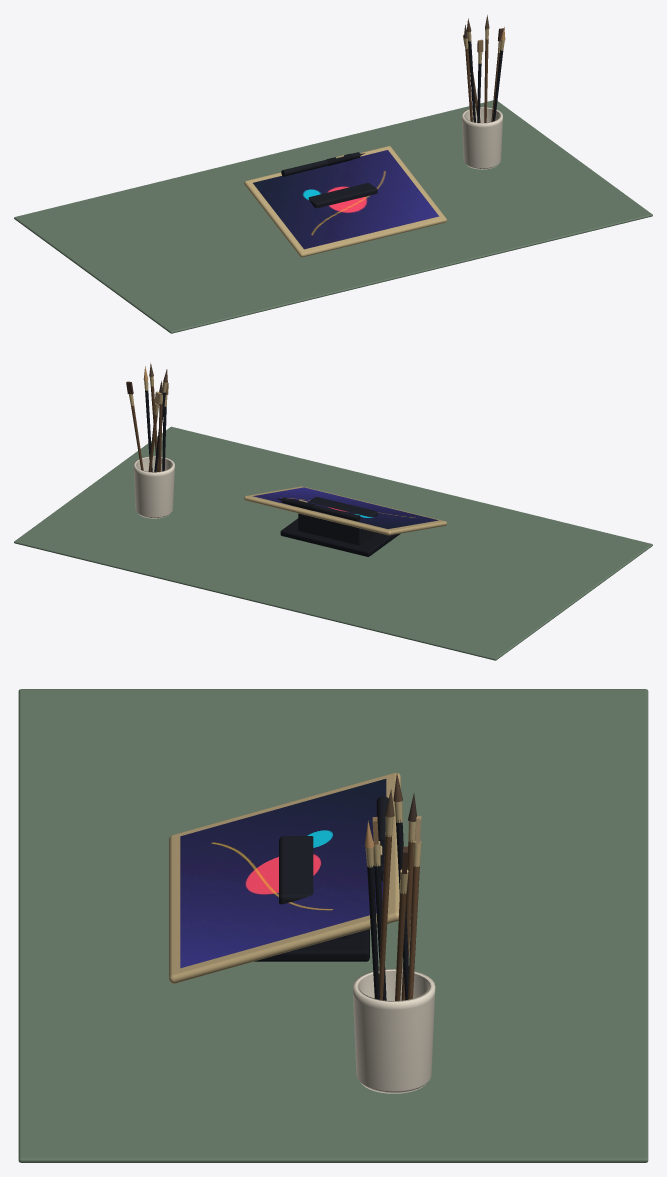
The model's file is atelier-artist-set-ipad-sage.glb.
The picture shows the model from 3 angles, top to bottom: view 1: azimuth 30°, elevation 25°; view 2: azimuth 150°, elevation 25°; view 3: azimuth 270°, elevation 25°; orthographic projection. The views are drawn at different scales.
Bounding box in the file's own units: 0.92 × 0.277 × 0.52.
Materials: 14 (1 with a texture image).
